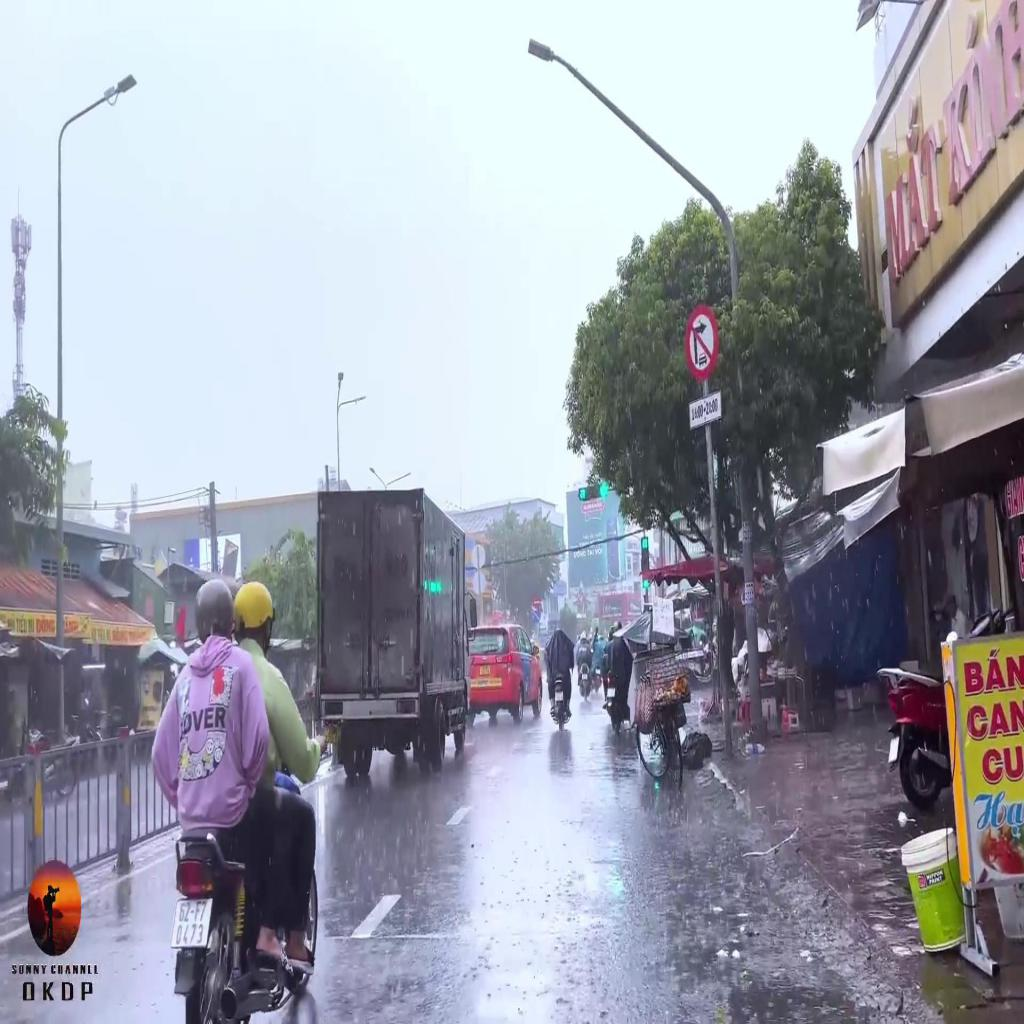cam_o_to_re_phai: (684, 304, 719, 381)
cam_xe_di_nguoc_chieu: (533, 594, 540, 608)
huong_phai_di_vuot_chuong_ngai_vat_phai: (533, 610, 541, 622)
khac: (689, 392, 721, 428)
